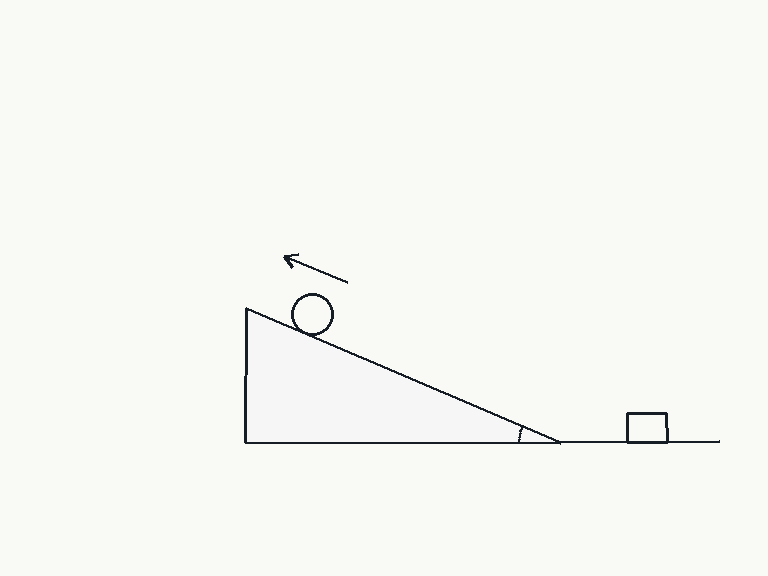ball: (289, 291, 335, 337)
block: (625, 411, 669, 444)
ramp: (243, 307, 561, 444)
